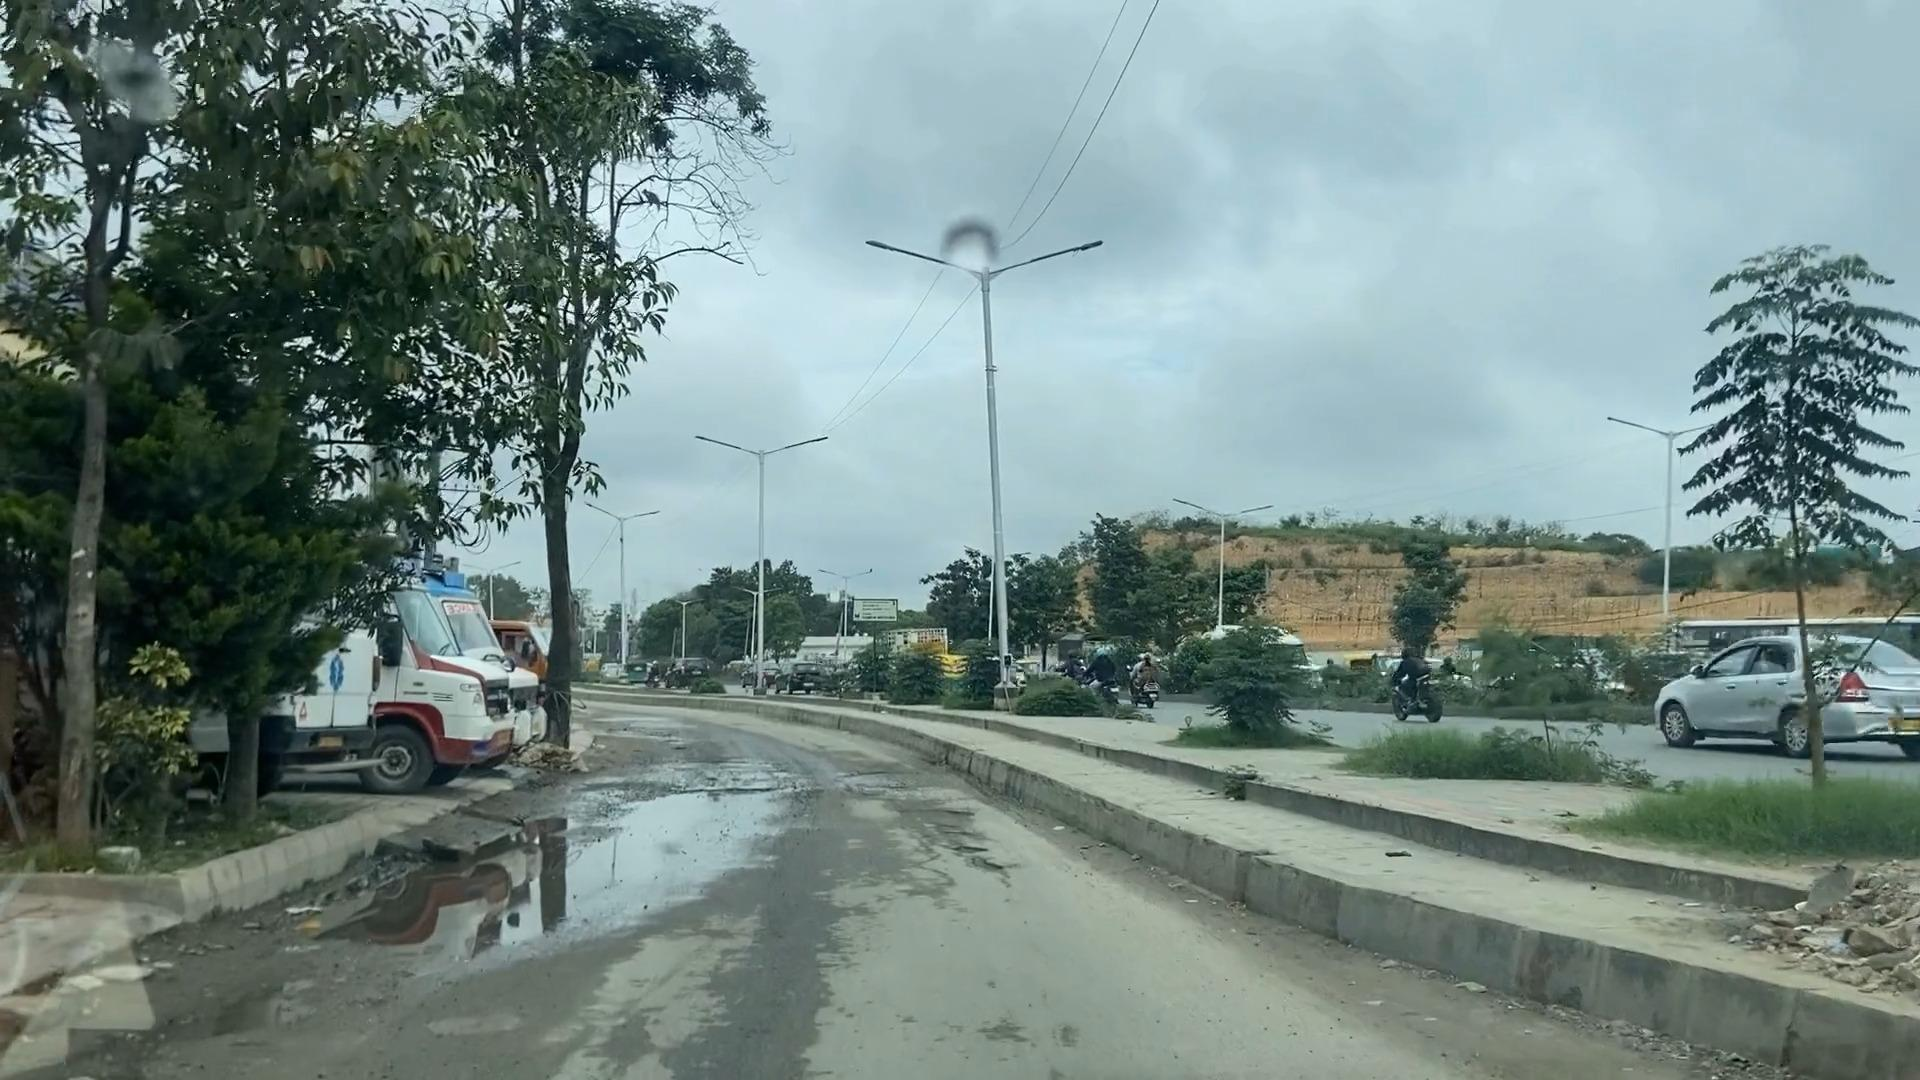RoadDamages: (903, 787, 994, 897), (659, 744, 791, 810), (820, 753, 922, 803)
